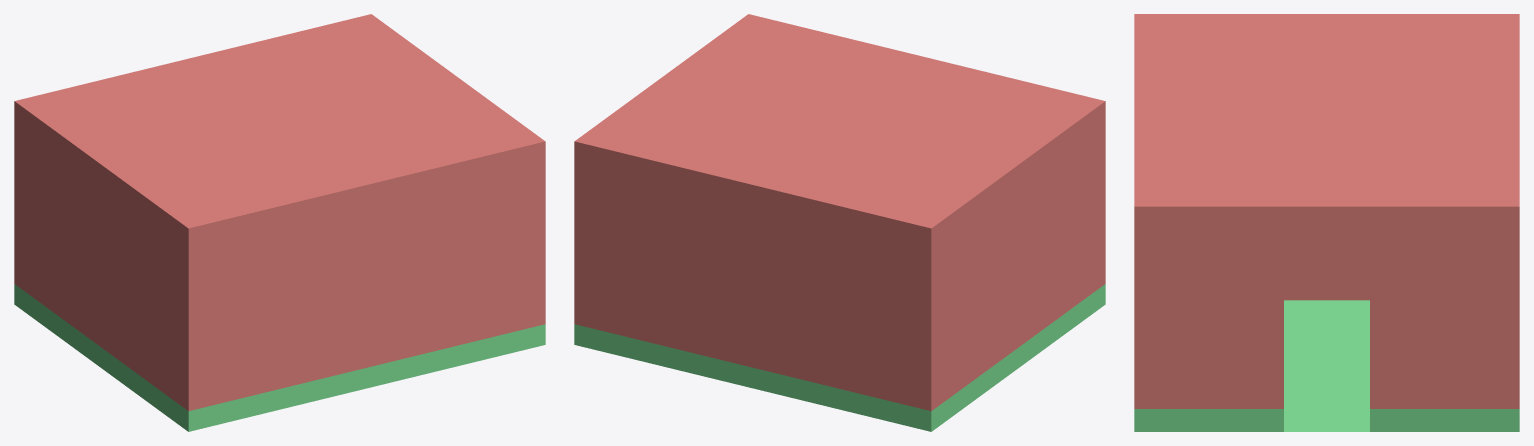
Rendered from models.fbx_home_l.fbx.
3 views of the same model, side by side, from view 1: azimuth 30°, elevation 25°; view 2: azimuth 150°, elevation 25°; view 3: azimuth 270°, elevation 25° (orthographic). The views are drawn at different scales.
Visible parts, largest first — view 1: home_l; view 2: home_l; view 3: home_l.
Boxes of the visible parts, x1,y1,x2,y2 form: home_l: (14,14,545,431); home_l: (574,14,1105,431); home_l: (1134,14,1519,431).
Bounding box in the file's own units: 733 × 399 × 619.
